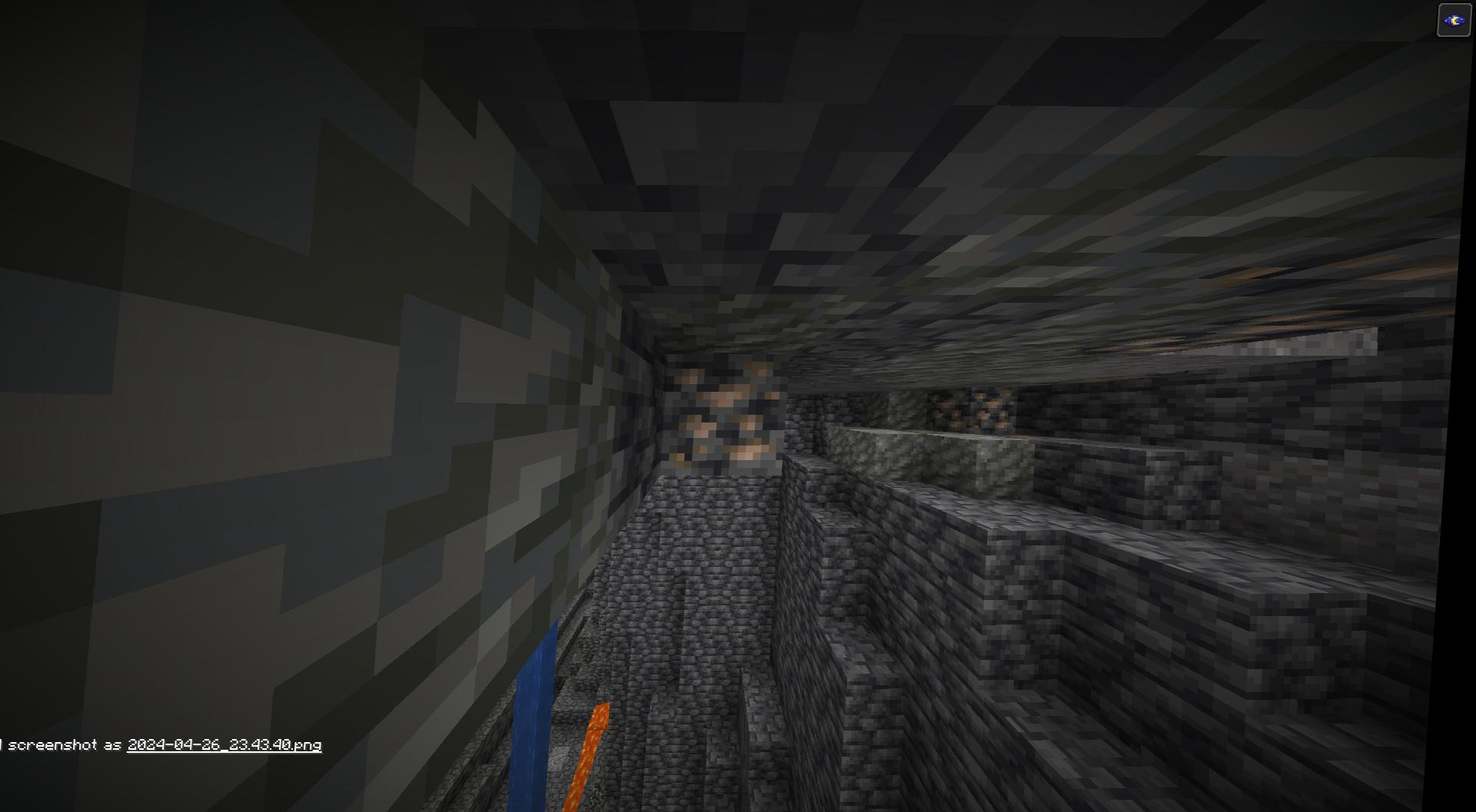iron ore: (650, 346, 784, 465), (918, 374, 982, 432), (969, 386, 1024, 440)
